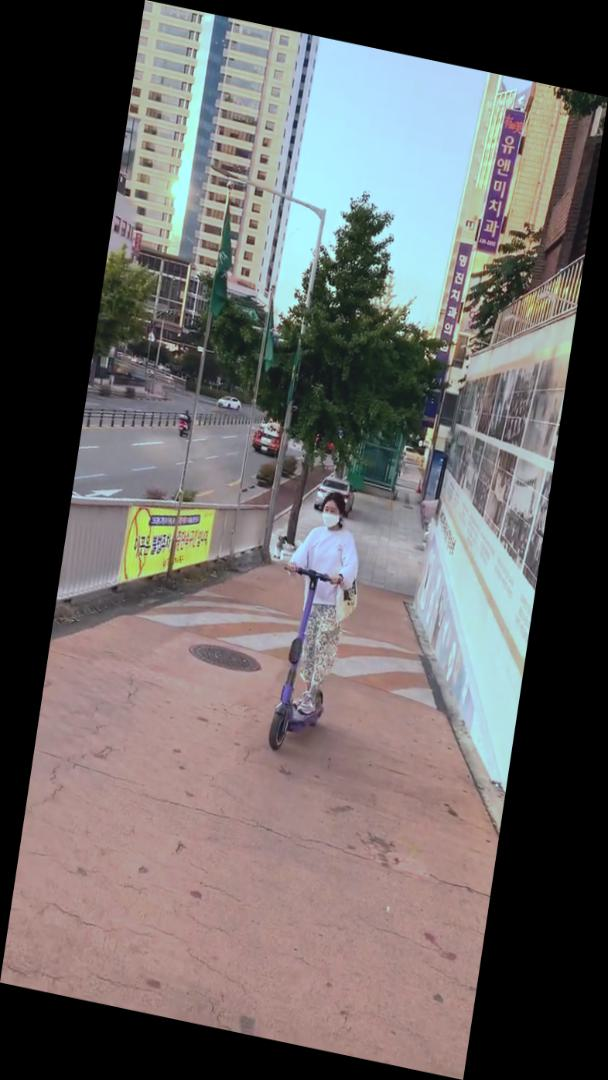nonhelmet: (256, 481, 377, 767)
